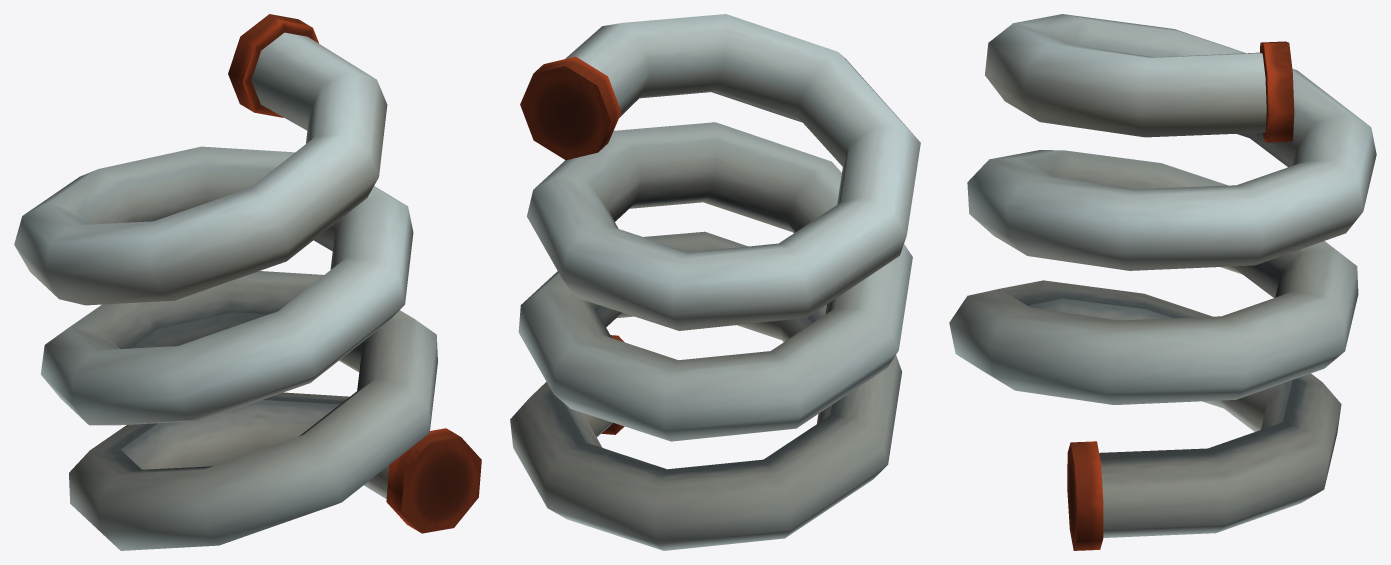
File: Wooden_Robot_Spring.fbx
3 views of the same model, side by side, from view 1: azimuth 30°, elevation 25°; view 2: azimuth 150°, elevation 25°; view 3: azimuth 270°, elevation 25° (orthographic). The views are drawn at different scales.
Visible parts, largest first — view 1: Wooden_Robot_Spring; view 2: Wooden_Robot_Spring; view 3: Wooden_Robot_Spring.
Part boxes in pixels (bbox=[...]): Wooden_Robot_Spring: bbox=[14, 14, 481, 550]; Wooden_Robot_Spring: bbox=[510, 14, 920, 550]; Wooden_Robot_Spring: bbox=[949, 14, 1376, 550].
Size of the model in its own units: 1.04 by 0.8603 by 0.9391.
